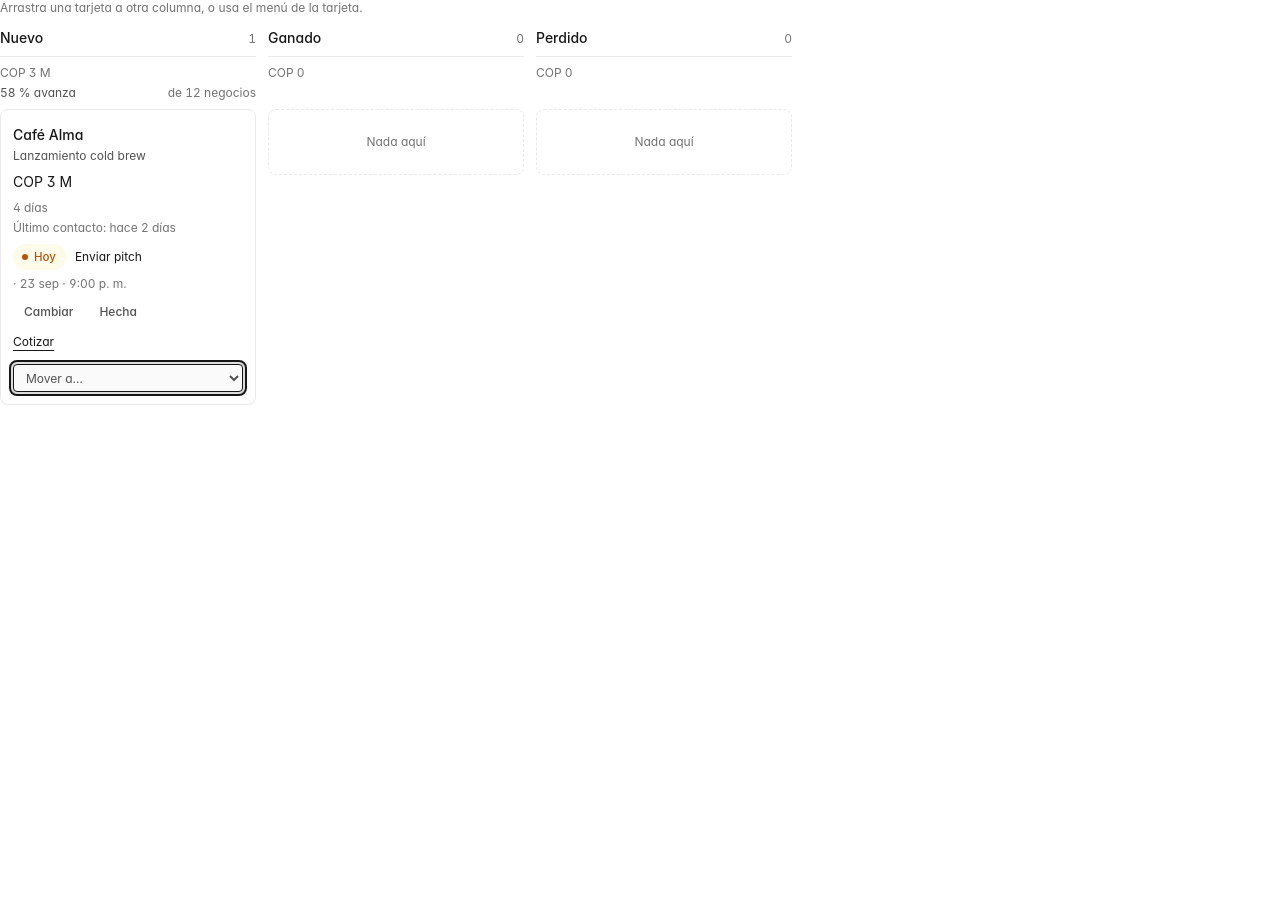
Test: PipelineBoard › Escape cierra el diálogo sin mover, y el foco vuelve al menú de la tarjeta
The image size is (1280, 900).
Select "Perdido" in the dropdown named "Mover «Café Alma» a otra etapa". click: (128, 378)
box: [13,364,243,392]
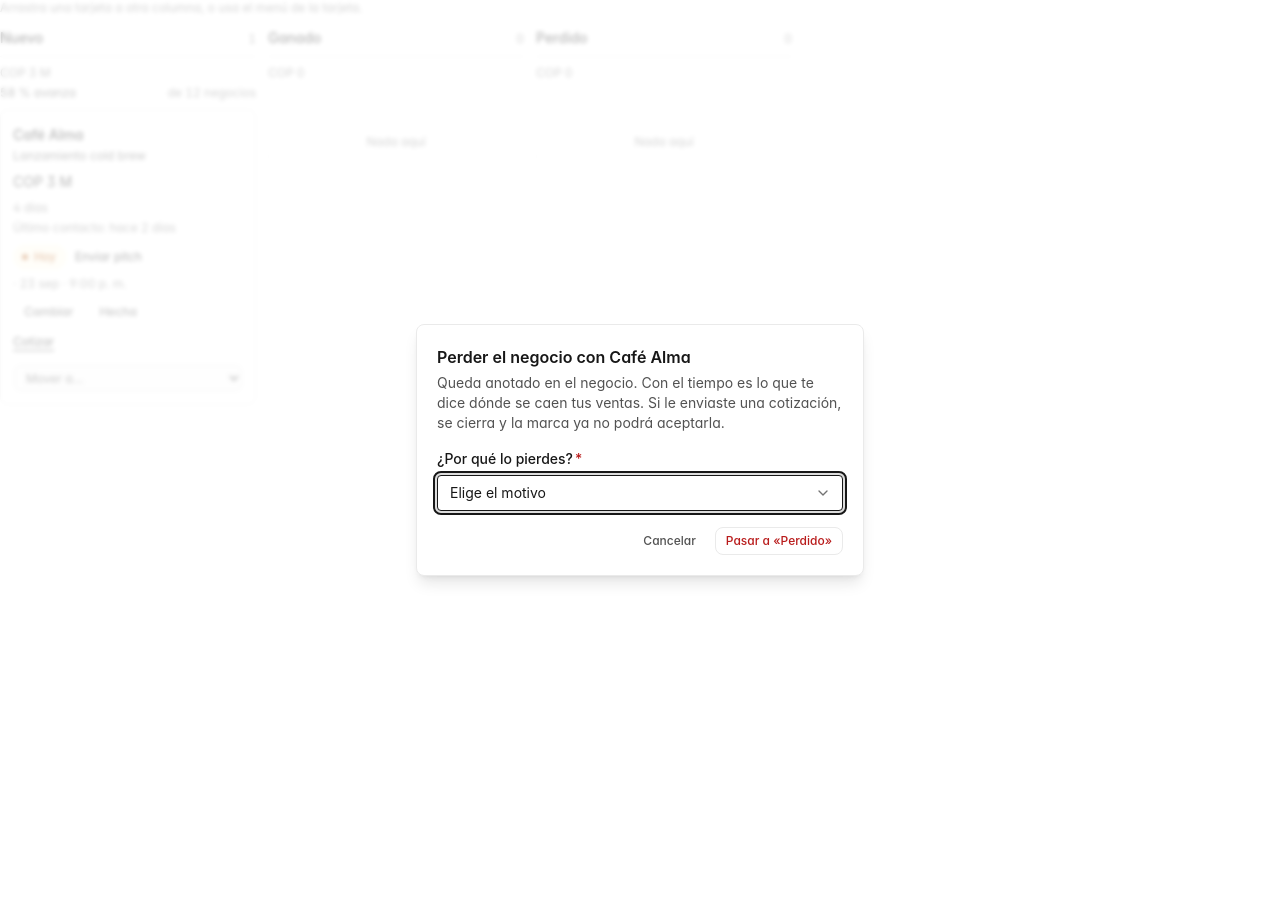
Press Escape in the dialog "Perder el negocio con Café Alma", box [416,324,864,576]
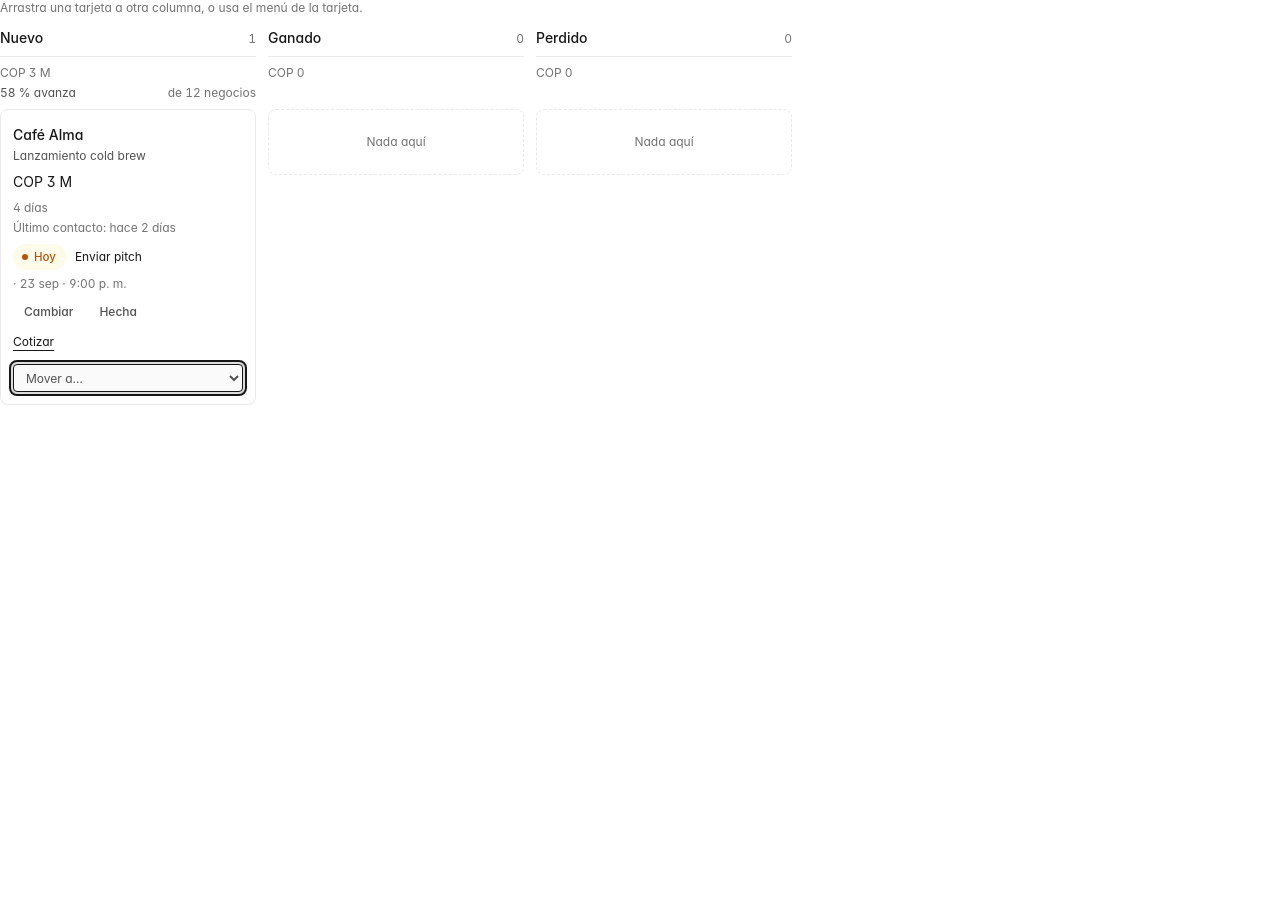
expect the dialog is gone: met
